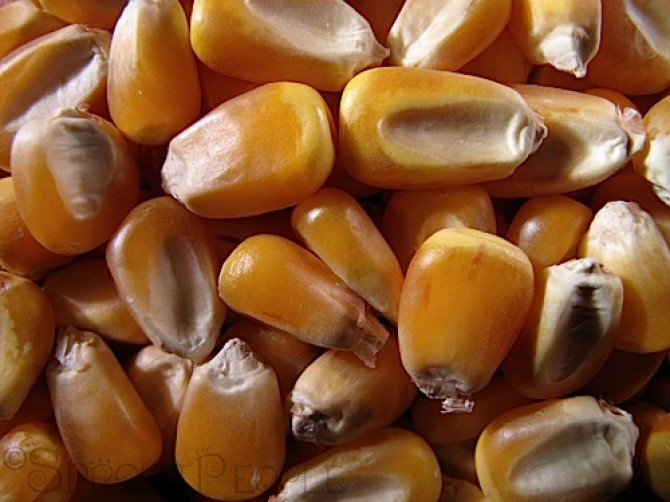corn: (337, 67, 550, 189), (397, 227, 533, 415), (162, 83, 338, 220), (218, 231, 385, 352), (9, 104, 137, 254)
